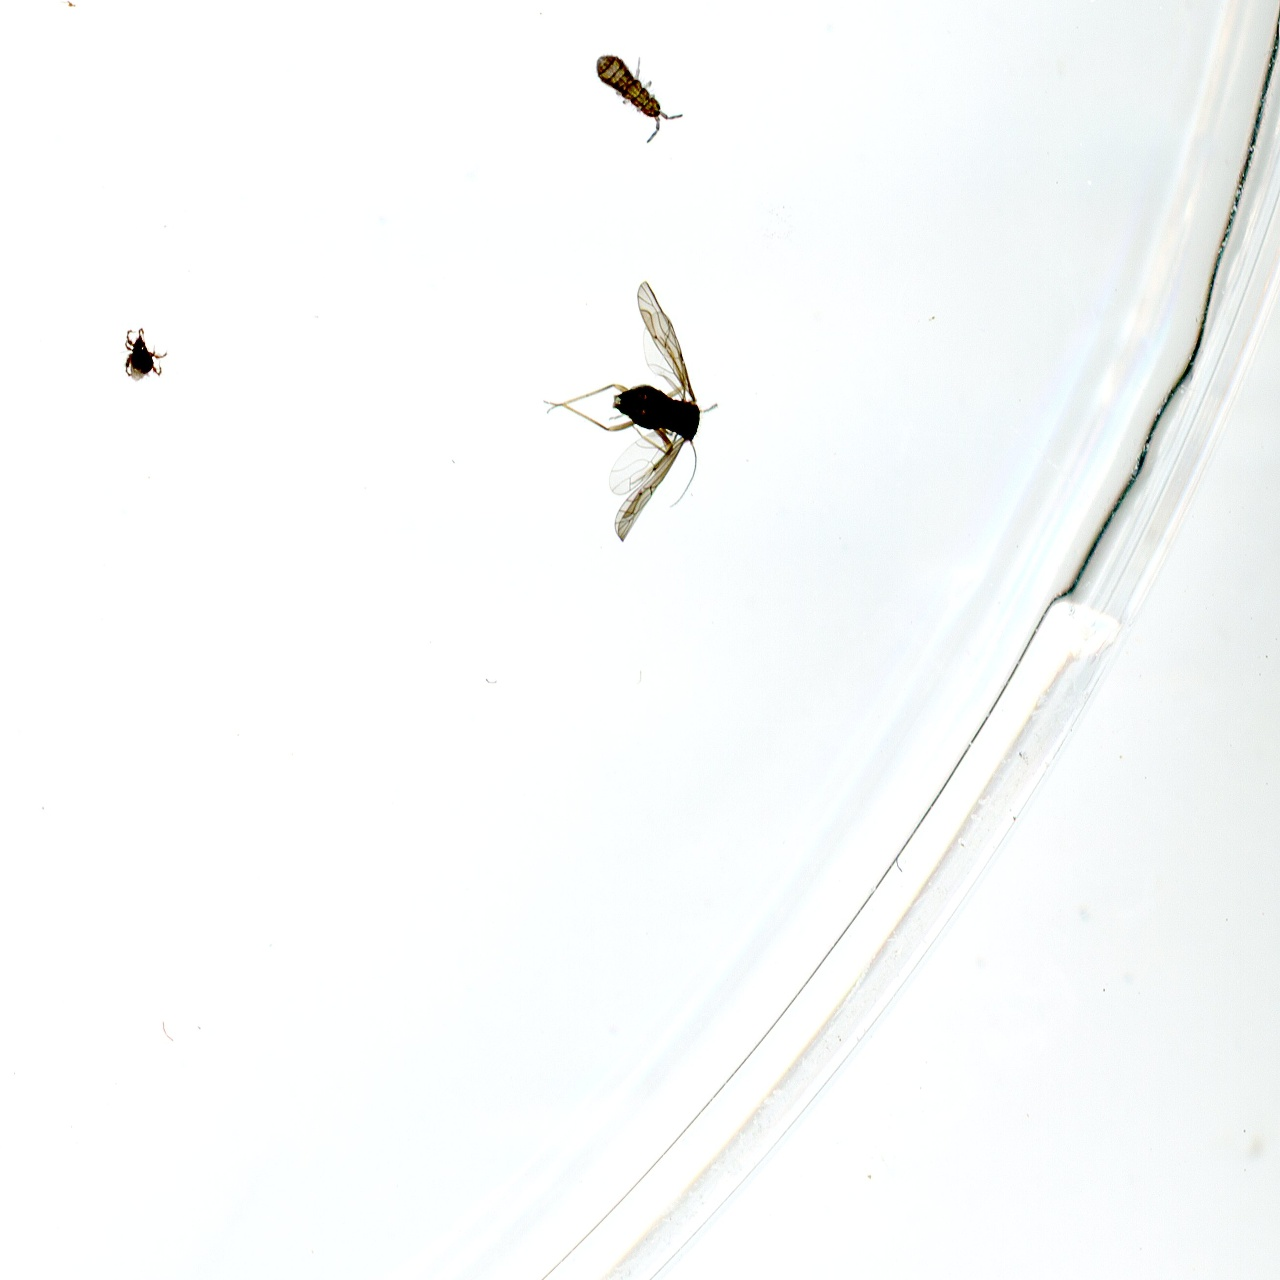arthropod: (540, 275, 721, 546), (579, 32, 695, 152), (114, 326, 170, 384)
